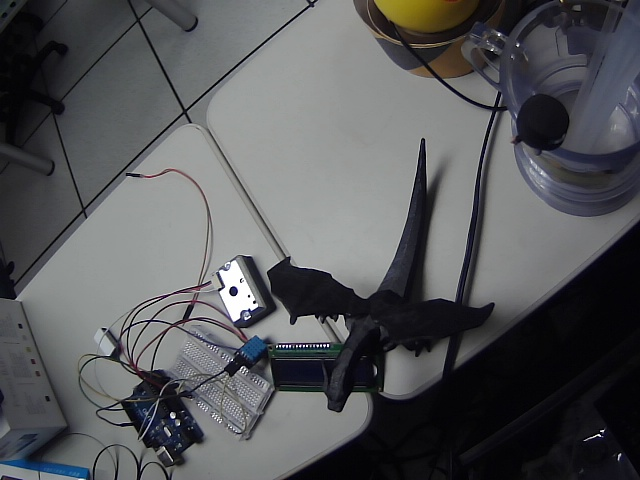charizard: (257, 136, 505, 420)
